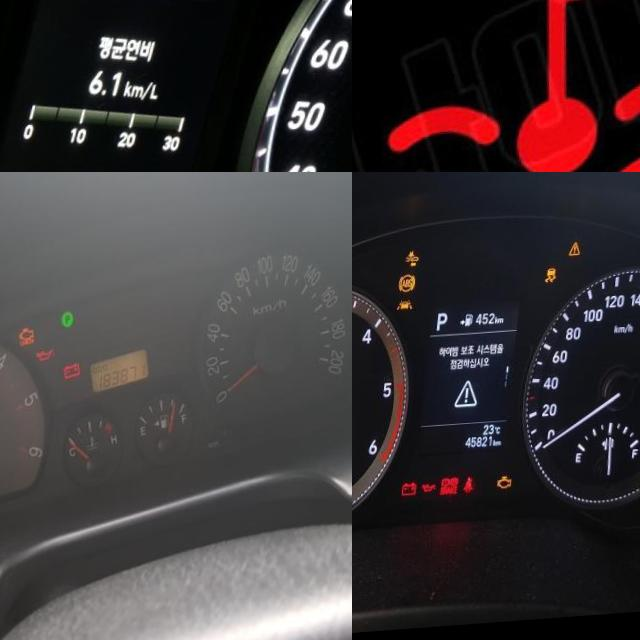Central Warning lamp: (574, 247, 587, 262)
Engine cooling system: (353, 0, 640, 172)
LaneCenteringOff: (403, 301, 420, 314)
